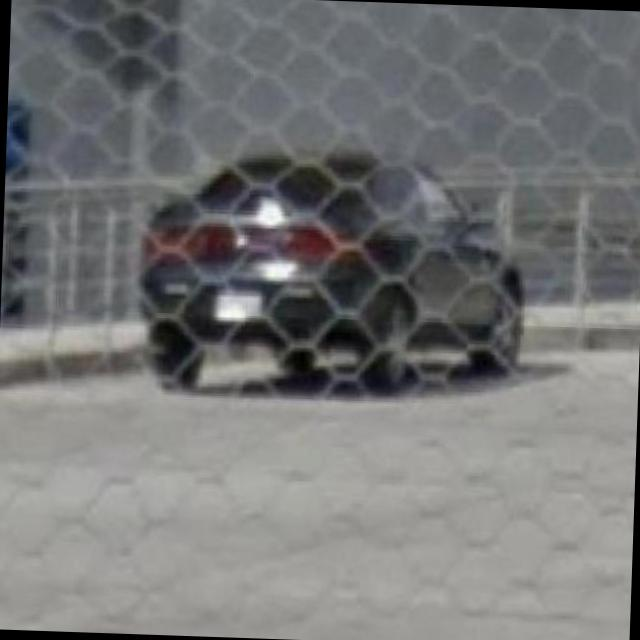car: (134, 139, 534, 398)
